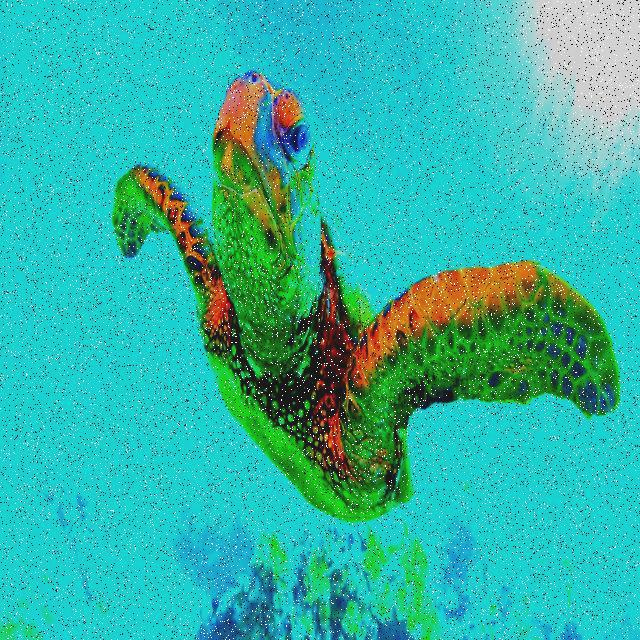tortoise: (104, 70, 622, 532)
